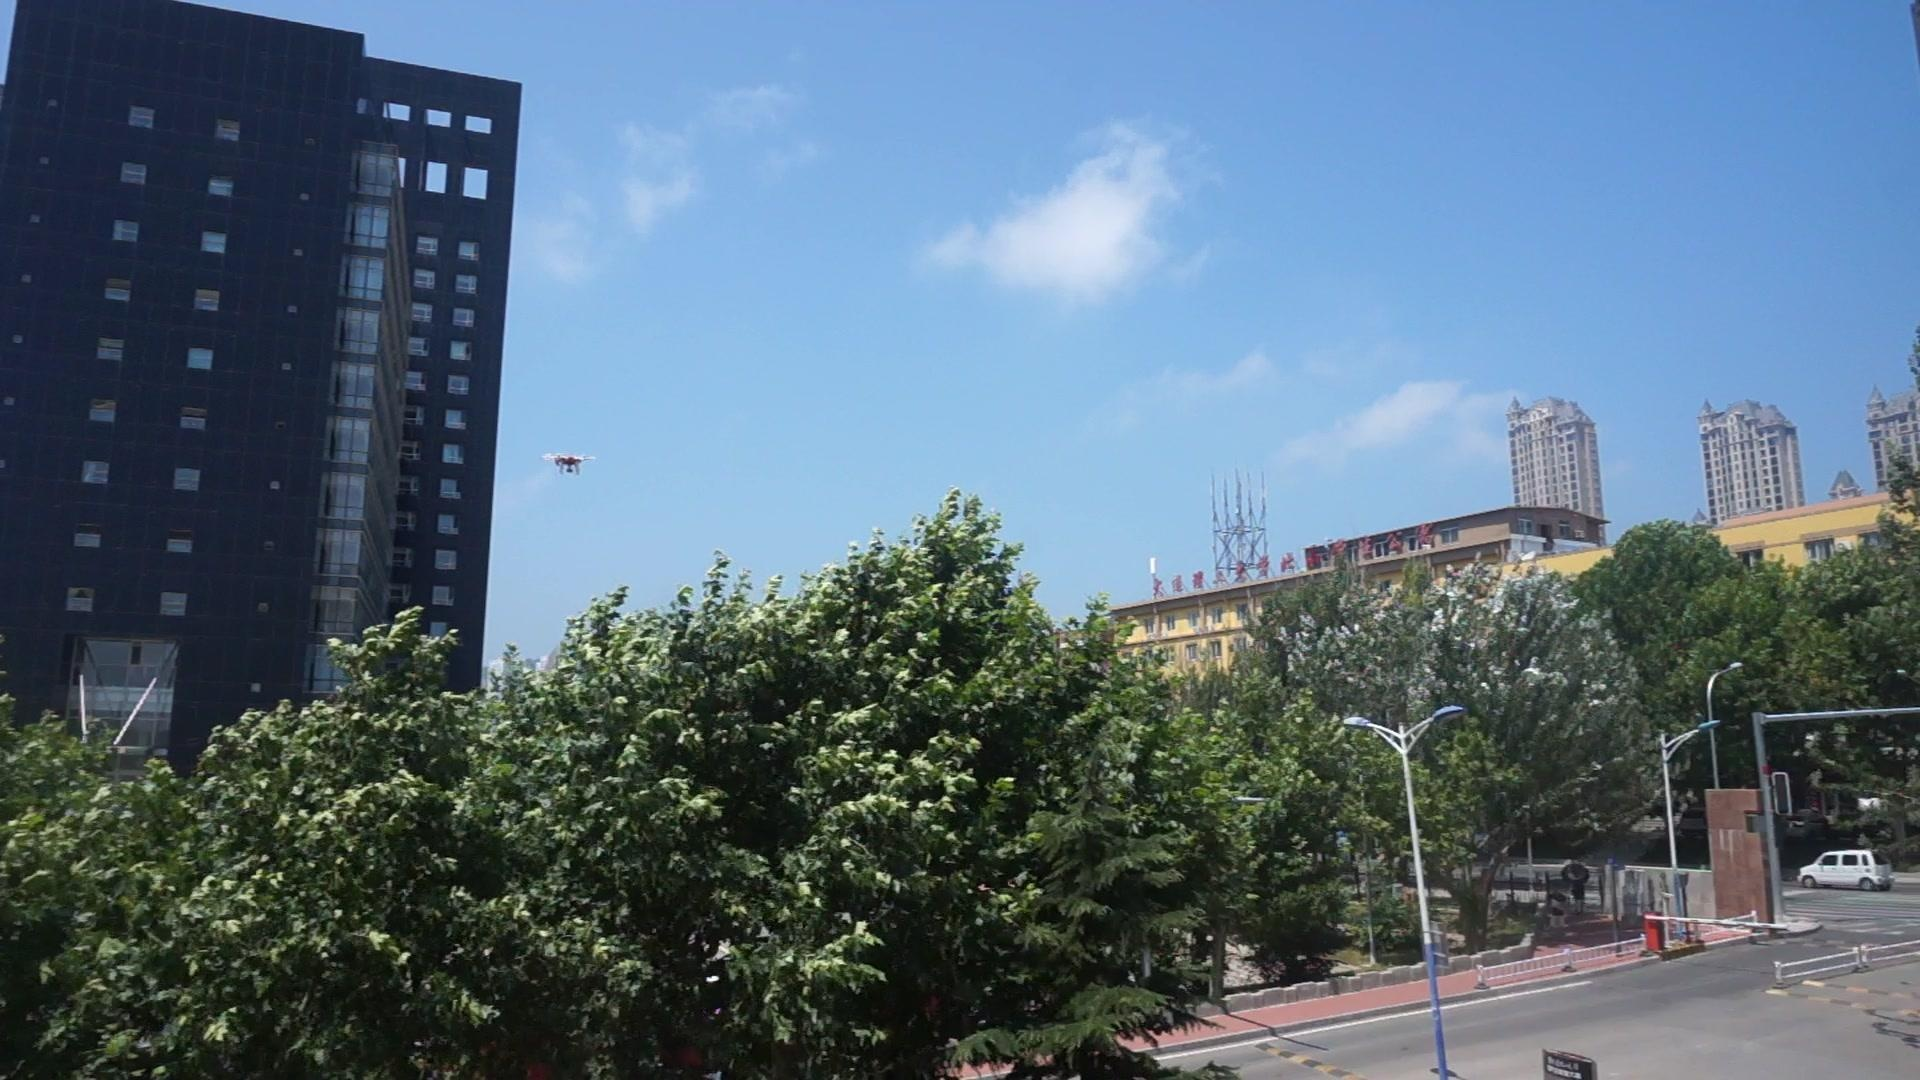UAV: (541, 454, 597, 476)
